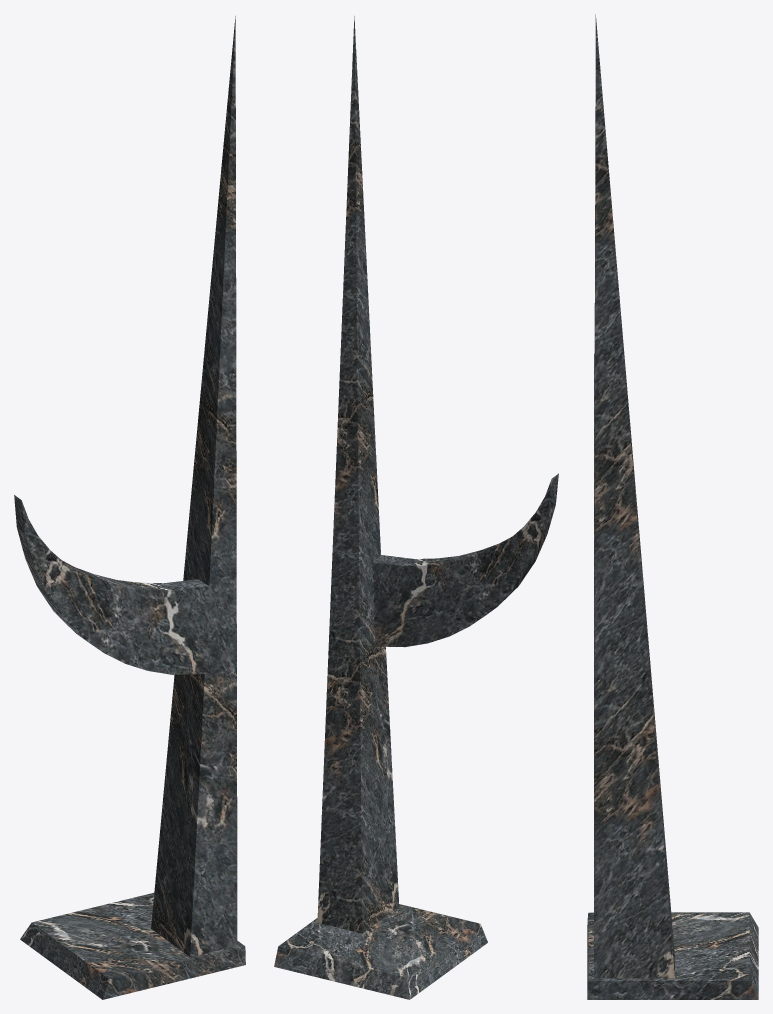
File: frn_quest_fs_sculpture_1_l1.fbx
3 renders of one model, left to right at view 1: azimuth 30°, elevation 25°; view 2: azimuth 150°, elevation 25°; view 3: azimuth 270°, elevation 25°, orthographic. The views are drawn at different scales.
Visible parts, largest first — view 1: mesh_node; view 2: mesh_node; view 3: mesh_node.
Part boxes in pixels (x1=…): mesh_node: x1=14, y1=16, x2=245, y2=999; mesh_node: x1=274, y1=16, x2=558, y2=999; mesh_node: x1=587, y1=14, x2=758, y2=999.
Bounding box in the file's own units: 0.6172 × 2.53 × 0.4.
